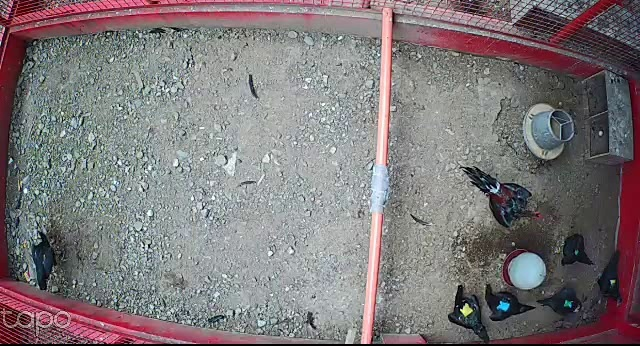Chicken: (445, 283, 491, 344), (29, 225, 63, 294), (482, 281, 538, 320), (590, 248, 626, 308), (534, 287, 584, 316), (554, 233, 594, 267)
Rooster: (455, 158, 546, 234)
Saddle_Color_Blue: (497, 298, 510, 312)
Saddle_Color_Yellow: (458, 302, 474, 317)
Saddle_Color_YellowGreen: (608, 278, 617, 288)
